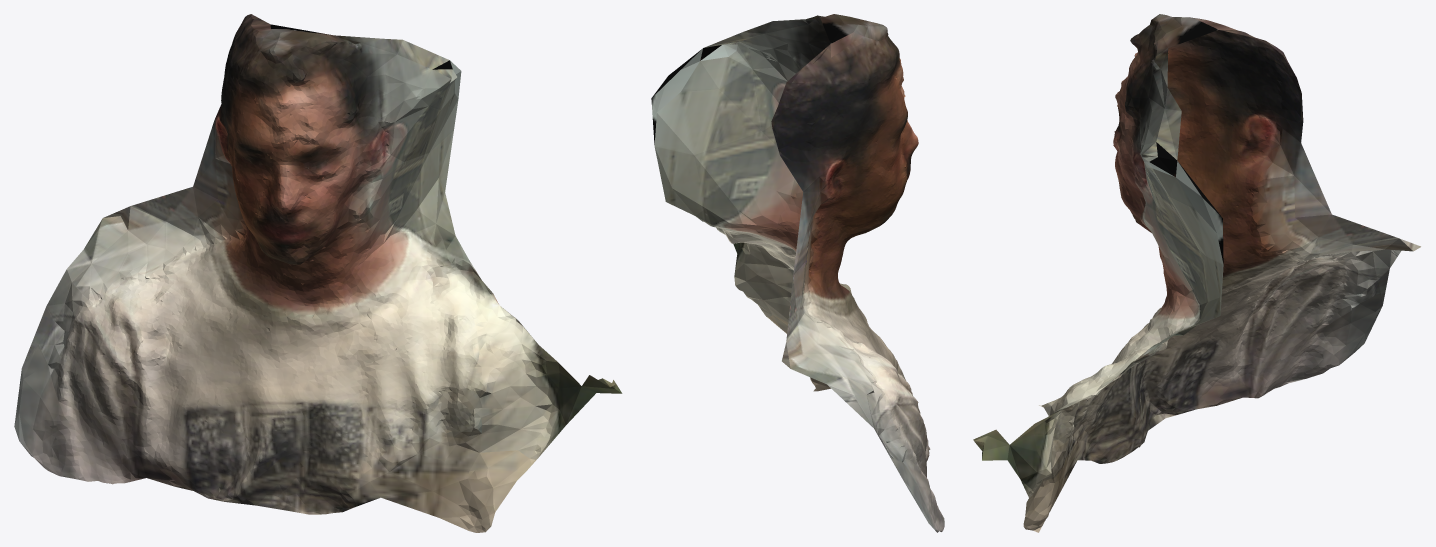
Rendered from texturedMesh.obj.
The picture shows the model from 3 angles, left to right: view 1: azimuth 30°, elevation 25°; view 2: azimuth 150°, elevation 25°; view 3: azimuth 270°, elevation 25°; orthographic projection. The views are drawn at different scales.
Size of the model in its own units: 0.901 by 0.9991 by 0.8852.
1 material, 1 textured.
